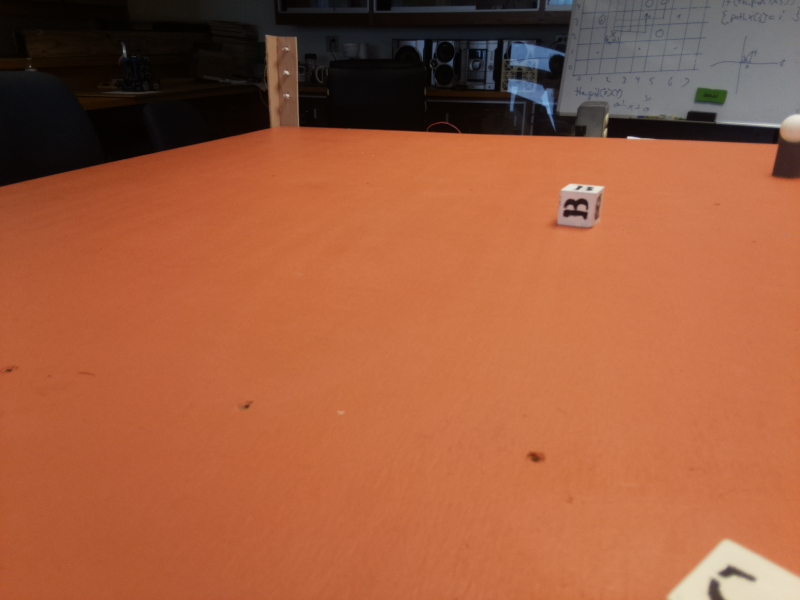blockB: (553, 184, 607, 229)
blockC: (660, 527, 798, 600)
corner: (261, 34, 302, 132)
obstacle: (770, 112, 800, 177)
